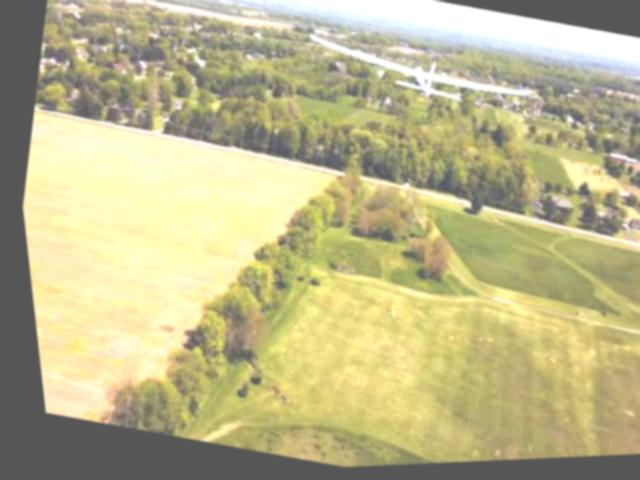uav: (289, 11, 548, 134)
